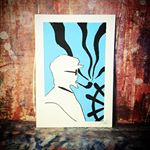other: (48, 51, 102, 96)
